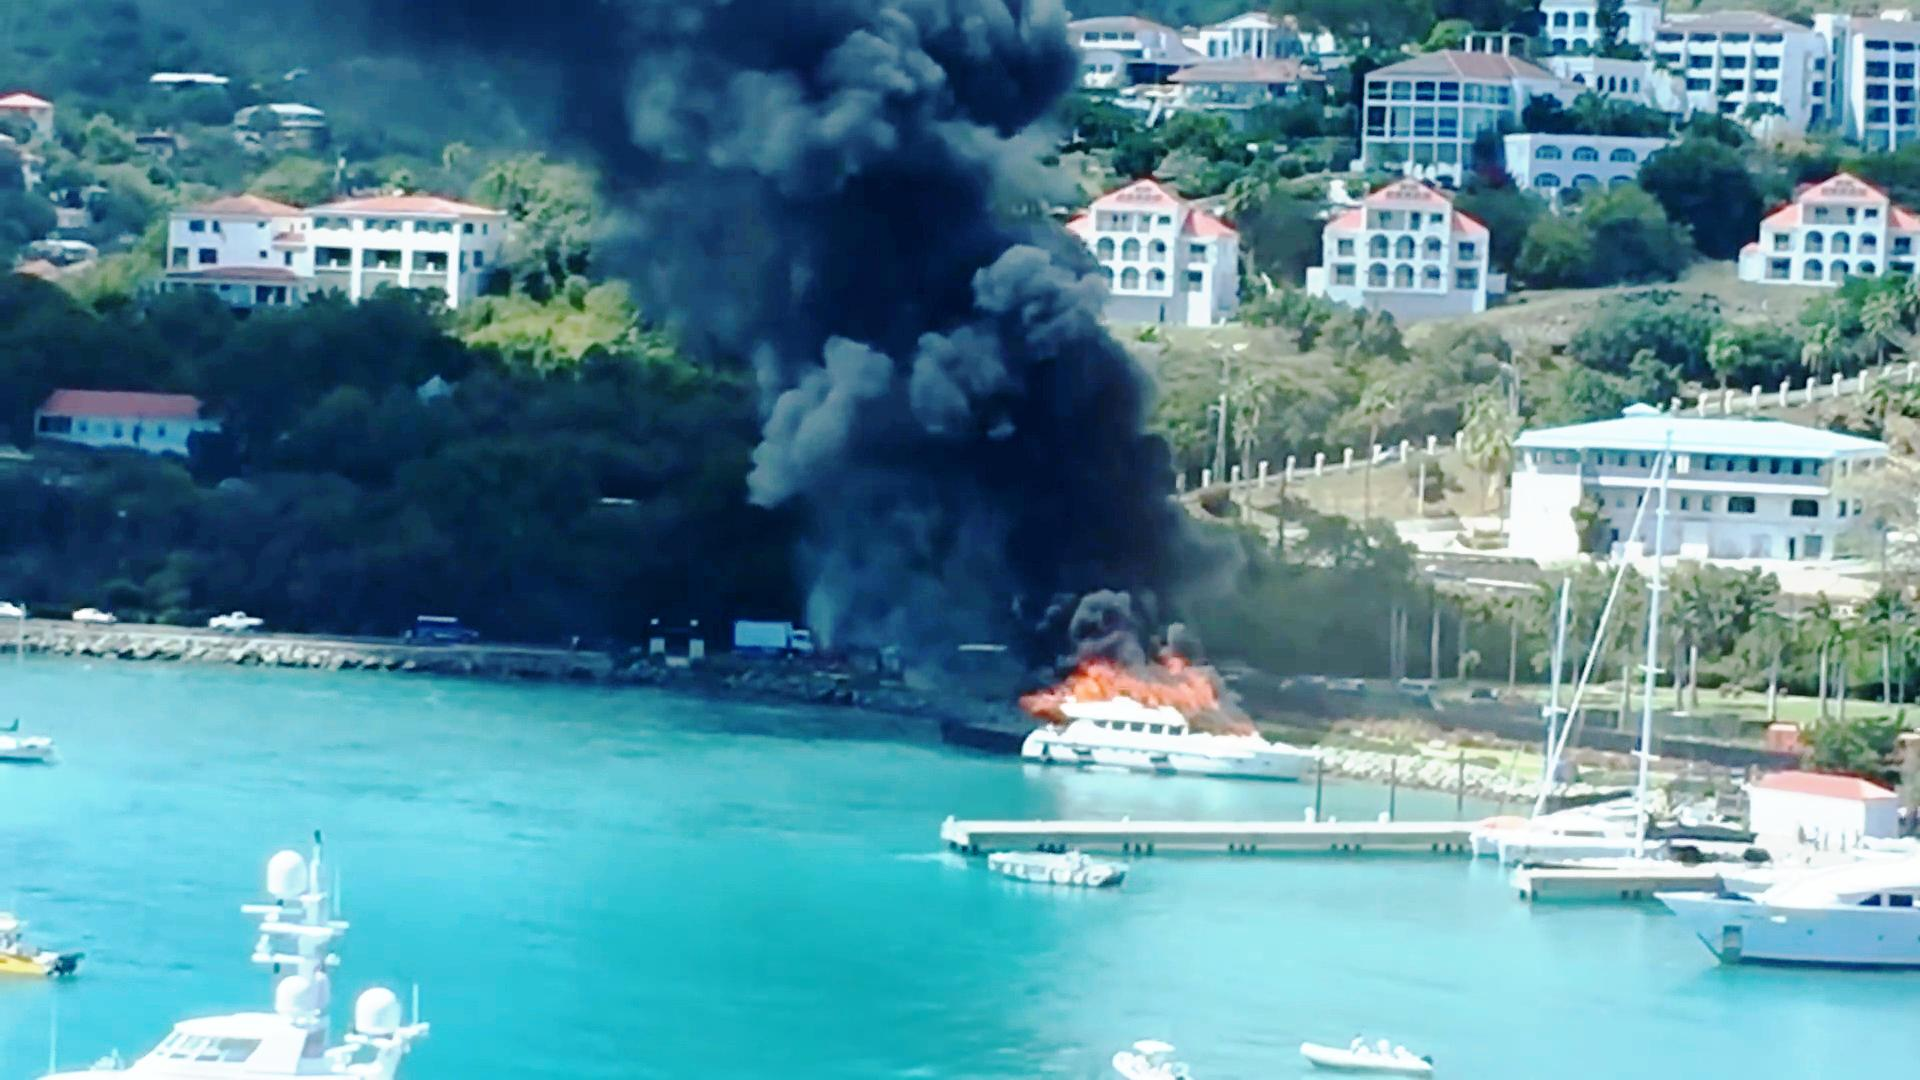fire: (1051, 644, 1207, 711)
smoke: (793, 175, 1121, 564), (546, 38, 1015, 282)
